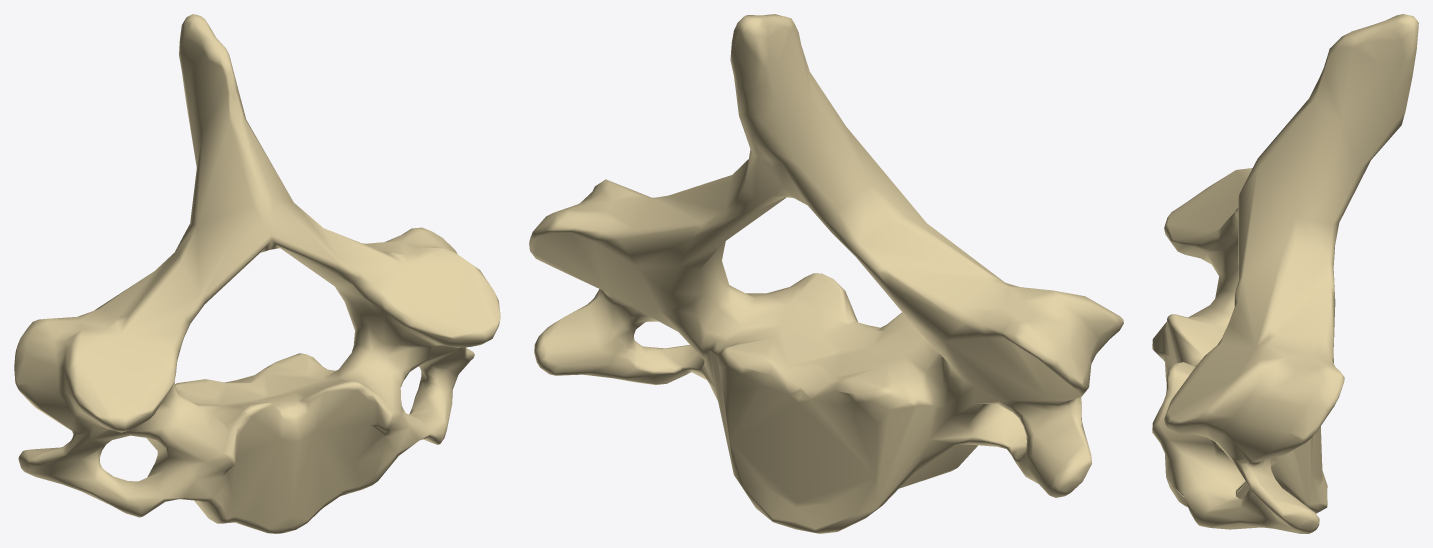
3 views of the same model, side by side, from view 1: azimuth 30°, elevation 25°; view 2: azimuth 150°, elevation 25°; view 3: azimuth 270°, elevation 25° (orthographic). The views are drawn at different scales.
Parts seen in each view (by area): view 1: 第三颈椎; view 2: 第三颈椎; view 3: 第三颈椎.
Boxes of the visible parts, x1,y1,x2,y2 form: 第三颈椎: [14, 14, 500, 533]; 第三颈椎: [529, 14, 1123, 533]; 第三颈椎: [1152, 14, 1418, 533].
Size of the model in its own units: 0.0833 by 0.0798 by 0.0393.
